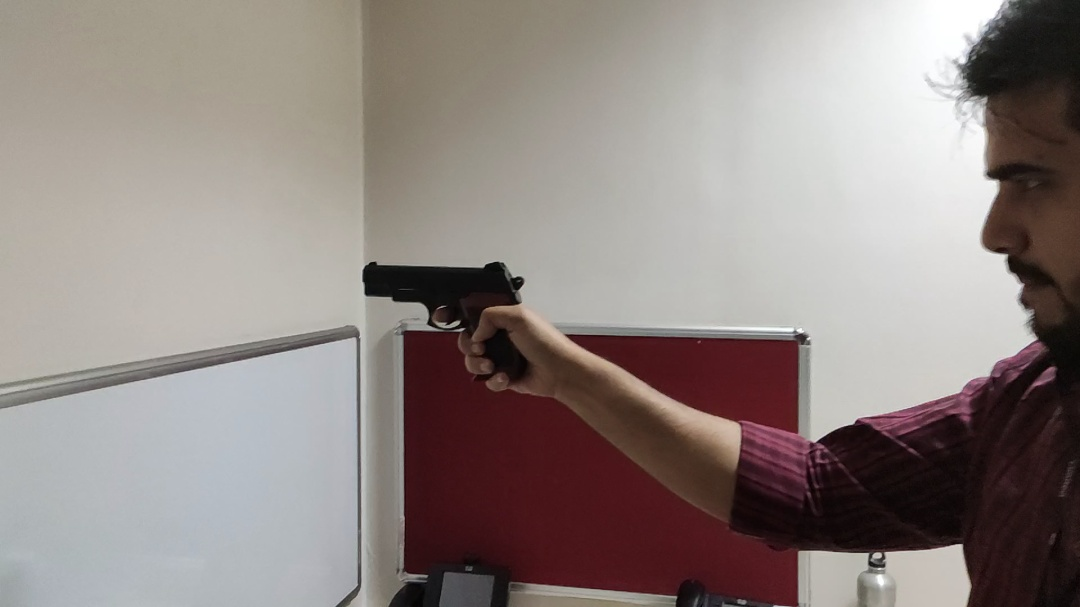gun: (360, 261, 533, 383)
